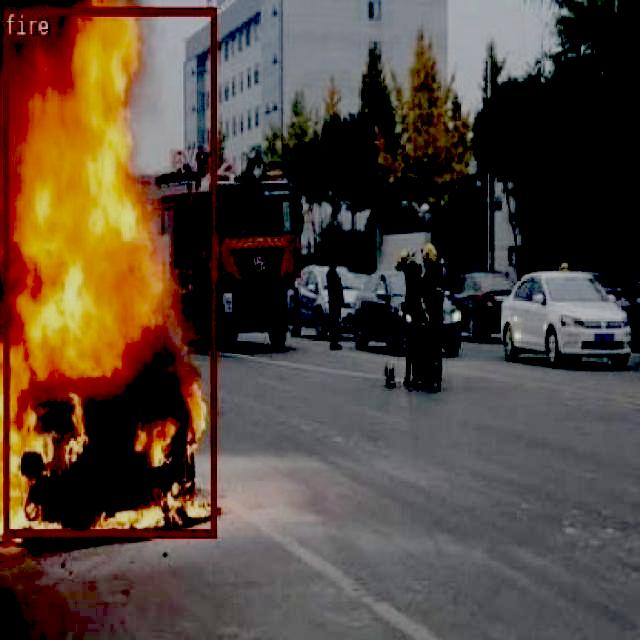fire: (2, 7, 215, 536)
